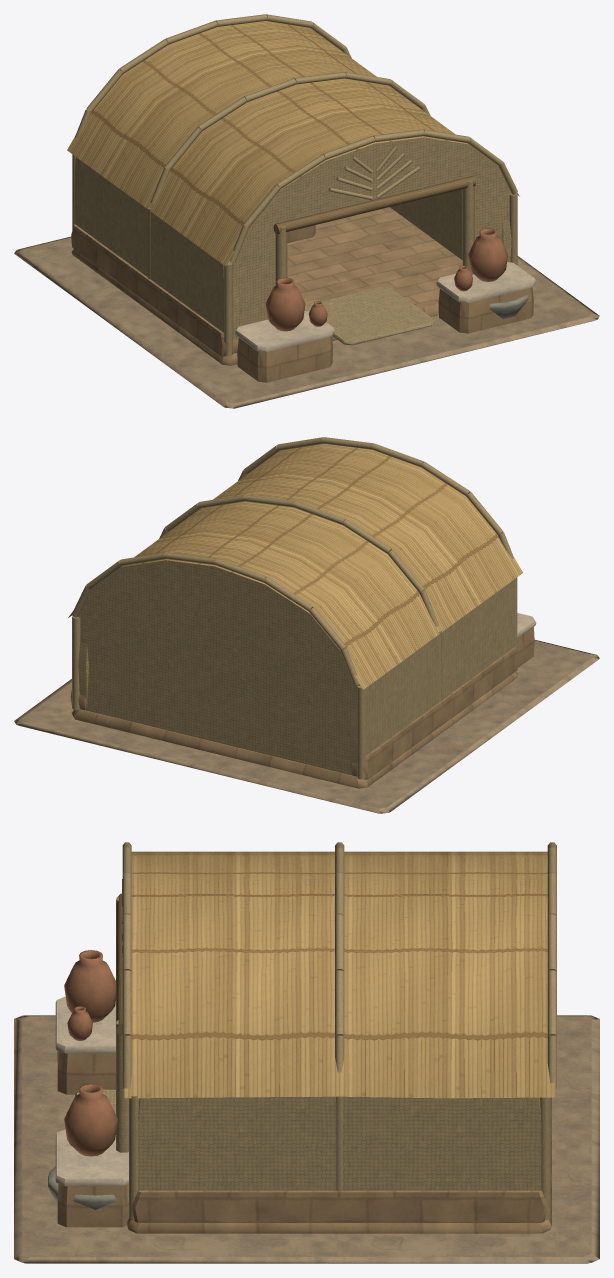
Rendered from shrine.glb.
The picture shows the model from 3 angles, top to bottom: view 1: azimuth 30°, elevation 25°; view 2: azimuth 150°, elevation 25°; view 3: azimuth 270°, elevation 25°; orthographic projection. The views are drawn at different scales.
Parts seen in each view (by area): view 1: original-shrine-laid-reed-thatch, original-shrine-reed-mat, original-shrine-game-raw-brick-facing, original-shrine-alluvial-earth, original-shrine-fired-pottery, original-shrine-game-plaster-trim, original-shrine-worn-timber, workshop-shrine-courtyard-stone; view 2: original-shrine-reed-mat, original-shrine-laid-reed-thatch, original-shrine-alluvial-earth, original-shrine-game-raw-brick-facing; view 3: original-shrine-laid-reed-thatch, original-shrine-reed-mat, original-shrine-alluvial-earth, original-shrine-game-raw-brick-facing, original-shrine-fired-pottery, original-shrine-game-plaster-trim, original-shrine-worn-timber, workshop-shrine-courtyard-stone.
Part boxes in pixels (x1,y1,x2,y2): original-shrine-laid-reed-thatch: [67, 21, 519, 266]; original-shrine-reed-mat: [72, 14, 517, 356]; original-shrine-game-raw-brick-facing: [71, 207, 533, 382]; original-shrine-alluvial-earth: [14, 236, 599, 408]; original-shrine-fired-pottery: [265, 228, 507, 331]; original-shrine-game-plaster-trim: [235, 262, 536, 352]; original-shrine-worn-timber: [273, 176, 475, 234]; workshop-shrine-courtyard-stone: [489, 295, 528, 319]; original-shrine-reed-mat: [72, 437, 517, 779]; original-shrine-laid-reed-thatch: [68, 444, 522, 689]; original-shrine-alluvial-earth: [14, 640, 599, 813]; original-shrine-game-raw-brick-facing: [70, 627, 534, 788]; original-shrine-laid-reed-thatch: [124, 851, 554, 1098]; original-shrine-reed-mat: [75, 842, 556, 1219]; original-shrine-alluvial-earth: [14, 1015, 599, 1263]; original-shrine-game-raw-brick-facing: [57, 1050, 551, 1233]; original-shrine-fired-pottery: [64, 950, 117, 1156]; original-shrine-game-plaster-trim: [55, 996, 128, 1186]; original-shrine-worn-timber: [116, 893, 122, 1035]; workshop-shrine-courtyard-stone: [48, 1166, 116, 1209].
Size of the model in its own units: 5.37 by 2.72 by 5.37.
Materials: 8 (8 with a texture image).
